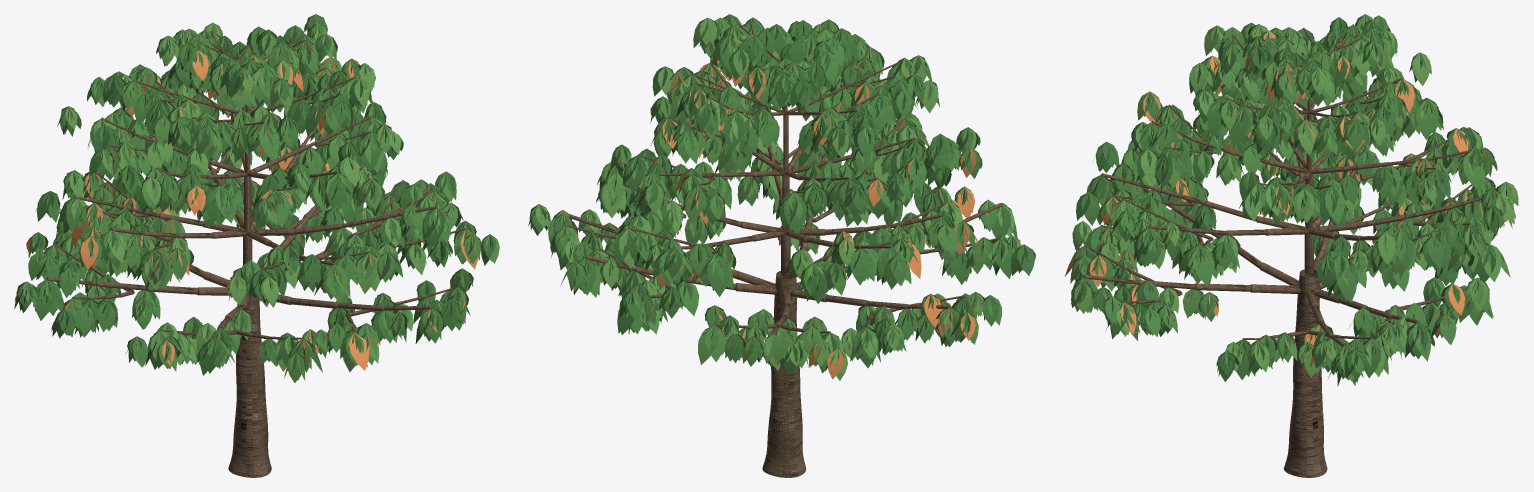
File: tree_amendoeira_1.glb
3 renders of one model, left to right at view 1: azimuth 30°, elevation 25°; view 2: azimuth 150°, elevation 25°; view 3: azimuth 270°, elevation 25°, orthographic.
Visible parts, largest first — view 1: tree_amendoeira_1; view 2: tree_amendoeira_1; view 3: tree_amendoeira_1.
Boxes of the visible parts, x1=… form: tree_amendoeira_1: x1=14, y1=14, x2=499, y2=477; tree_amendoeira_1: x1=528, y1=14, x2=1035, y2=477; tree_amendoeira_1: x1=1064, y1=14, x2=1518, y2=477.
Bounding box in the file's own units: 6.59 × 6.19 × 5.85.
Materials: 5 (1 with a texture image).
